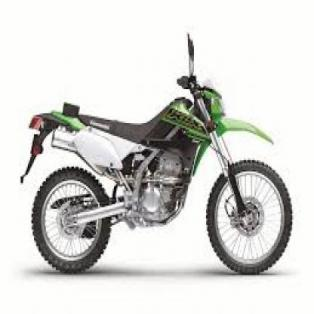Motocicleta: (19, 31, 296, 284)
